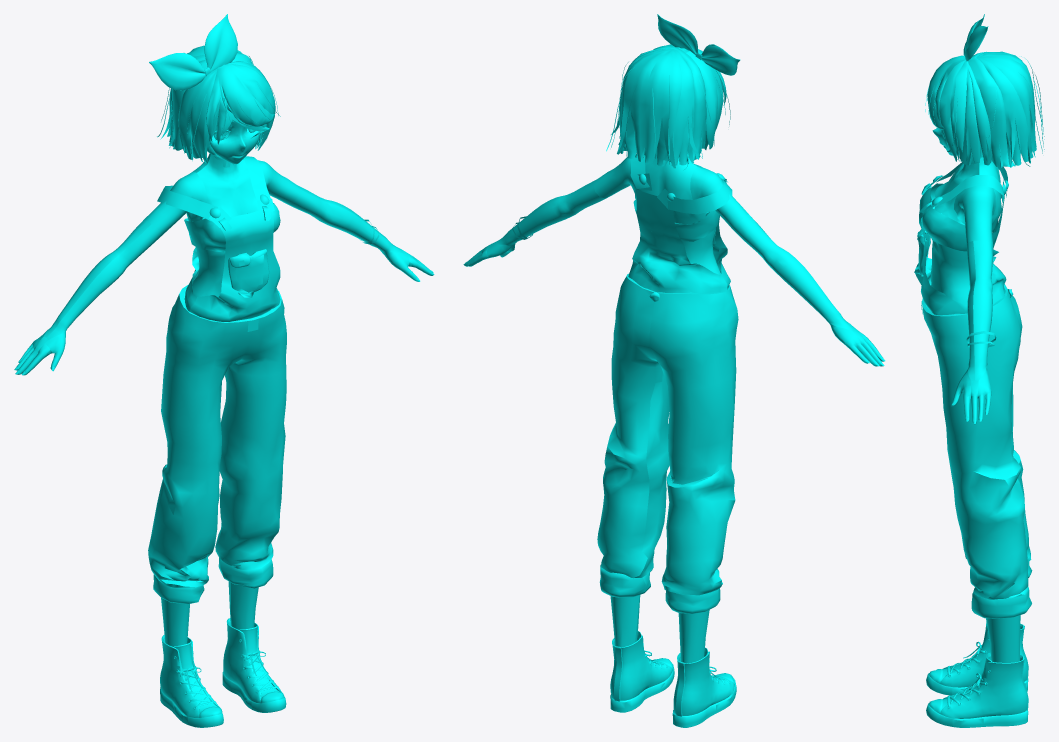
Rendered from rin_1.obj.
3 renders of one model, left to right at view 1: azimuth 30°, elevation 25°; view 2: azimuth 150°, elevation 25°; view 3: azimuth 270°, elevation 25°, orthographic.
Bounding box in the file's own units: 203 × 318 × 54.94.
